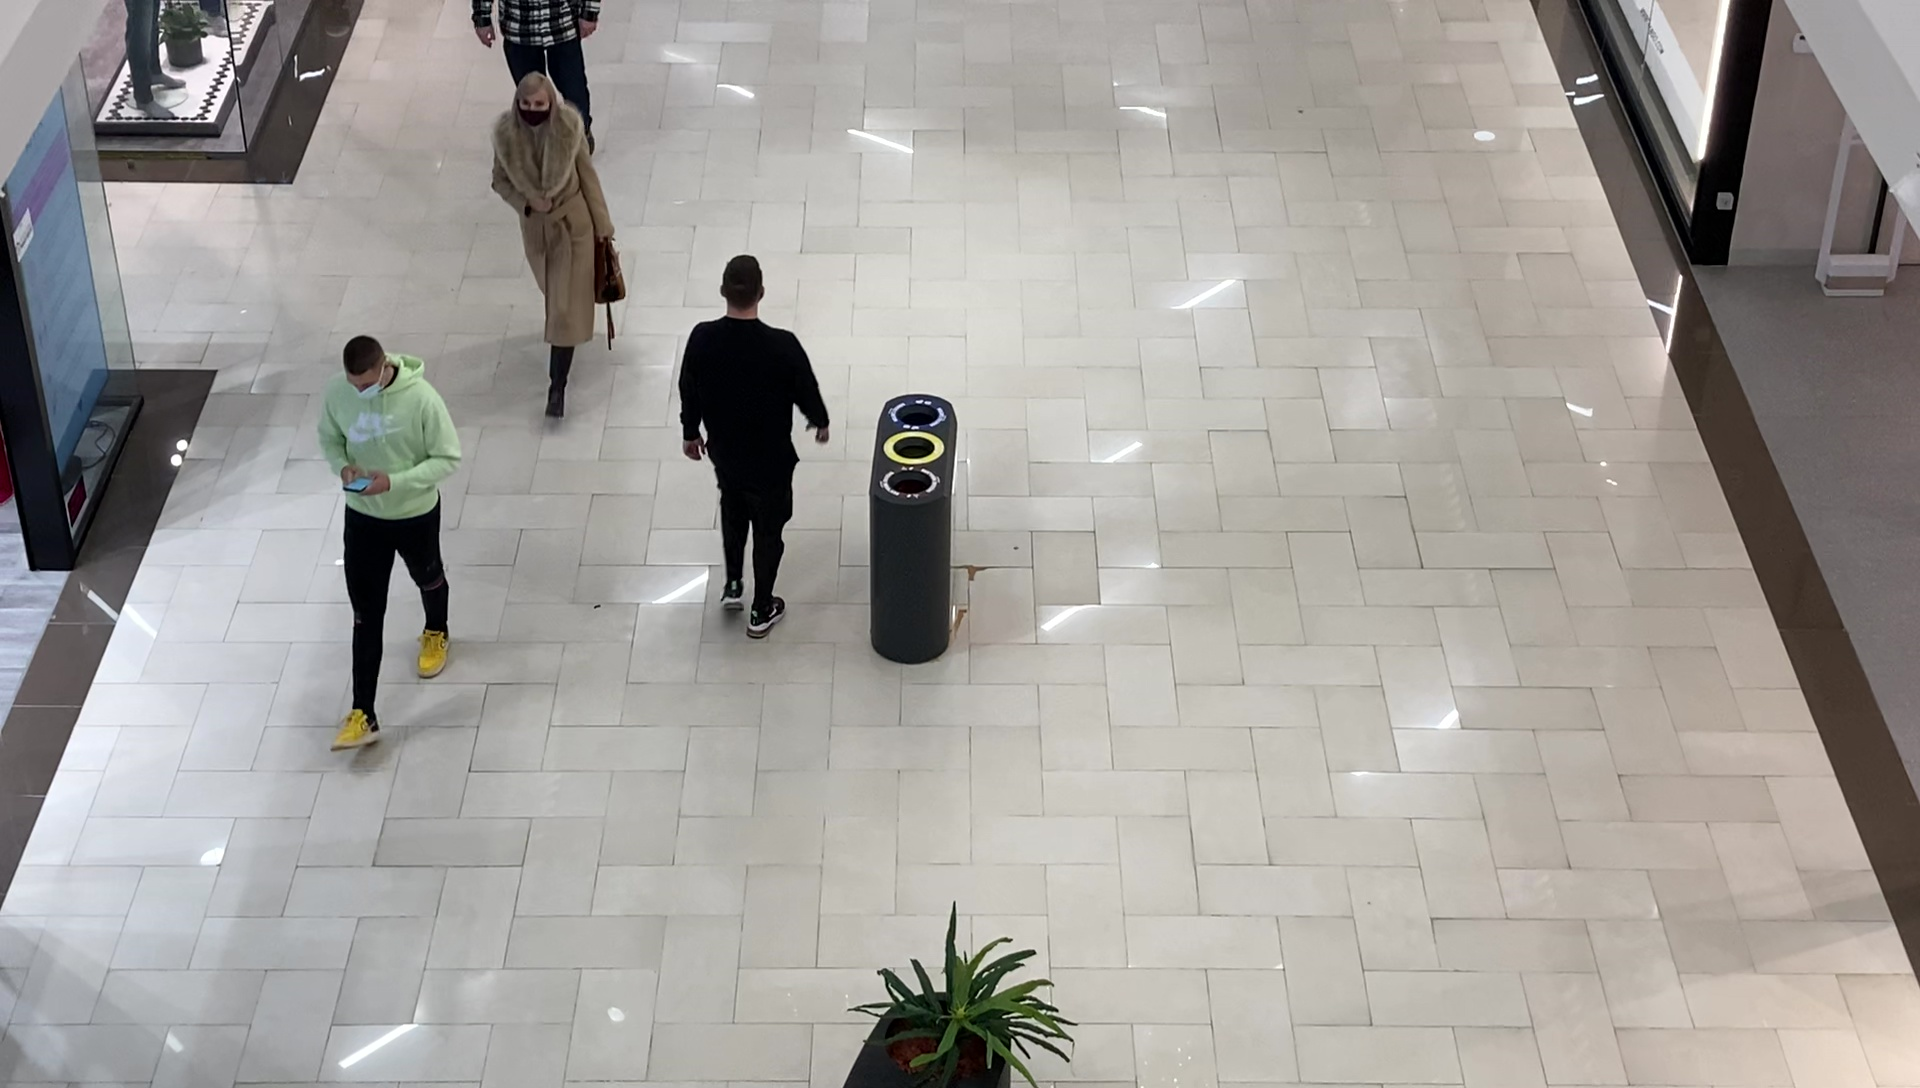person: (317, 336, 464, 758), (677, 255, 829, 641), (490, 71, 619, 419)
